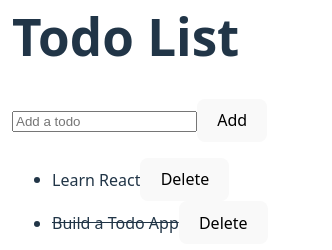
TodoList Component › can delete a todo
Click the button with test id "delete-1". click: x=185, y=180
box: [140,158,230,201]
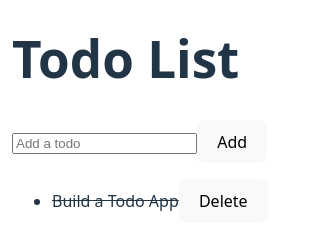
Result: the list item "Learn React" is gone
